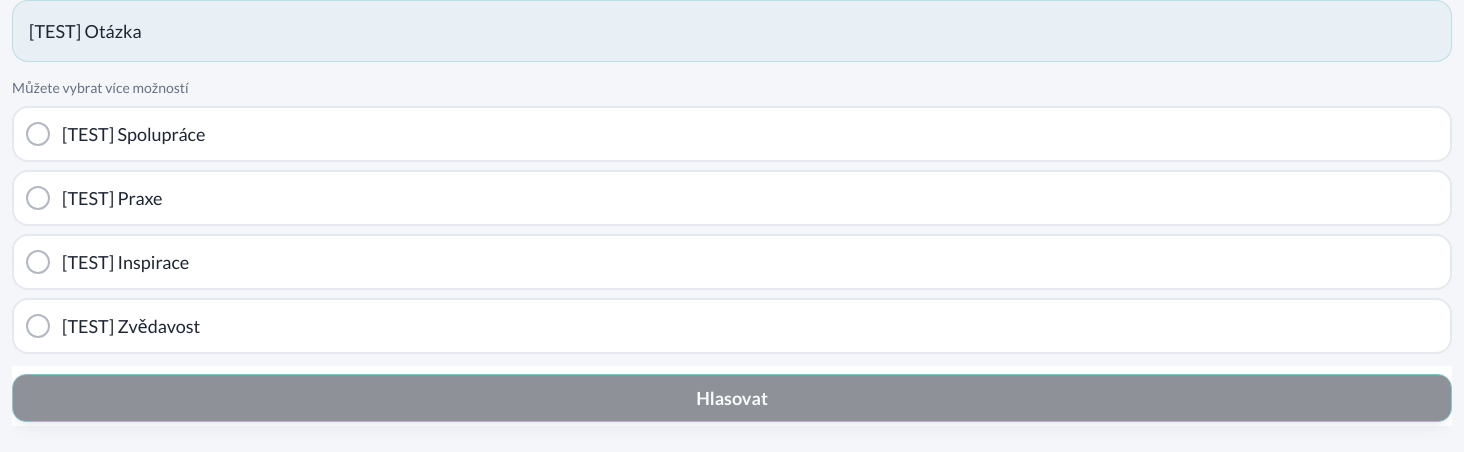
Scenario: PollActivity – výběr odpovědi › u více odpovědí umožní vybrat i odznačit jednotlivé možnosti
This screenshot has width=1464, height=452.
Click the button "[TEST] Spolupráce": [134, 134] box [12, 106, 1452, 162]
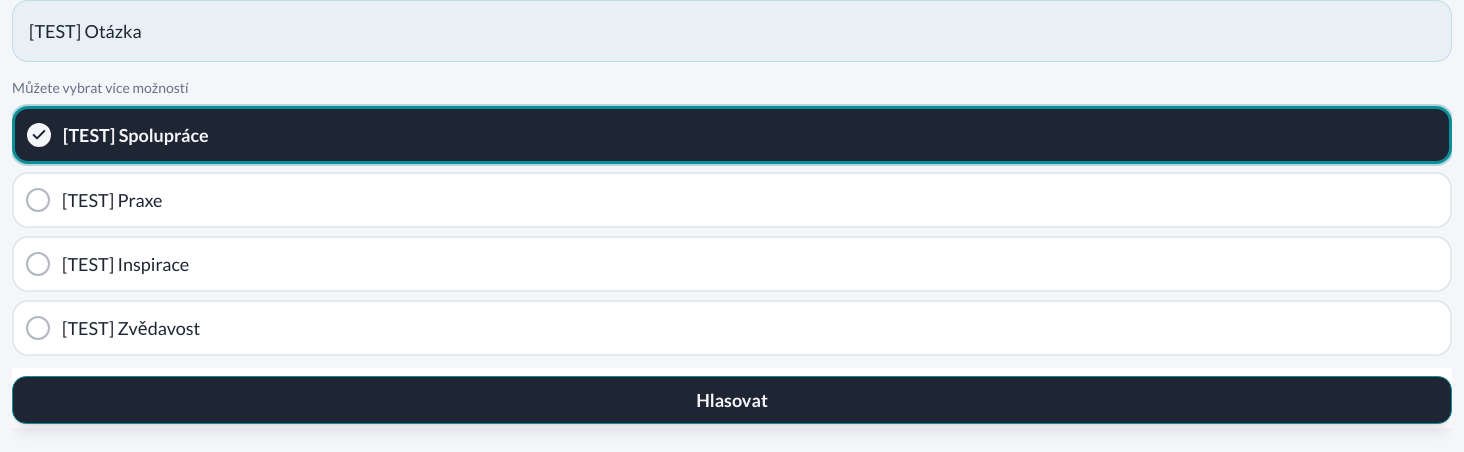
Click the button "[TEST] Praxe": [112, 200] box [12, 172, 1452, 228]
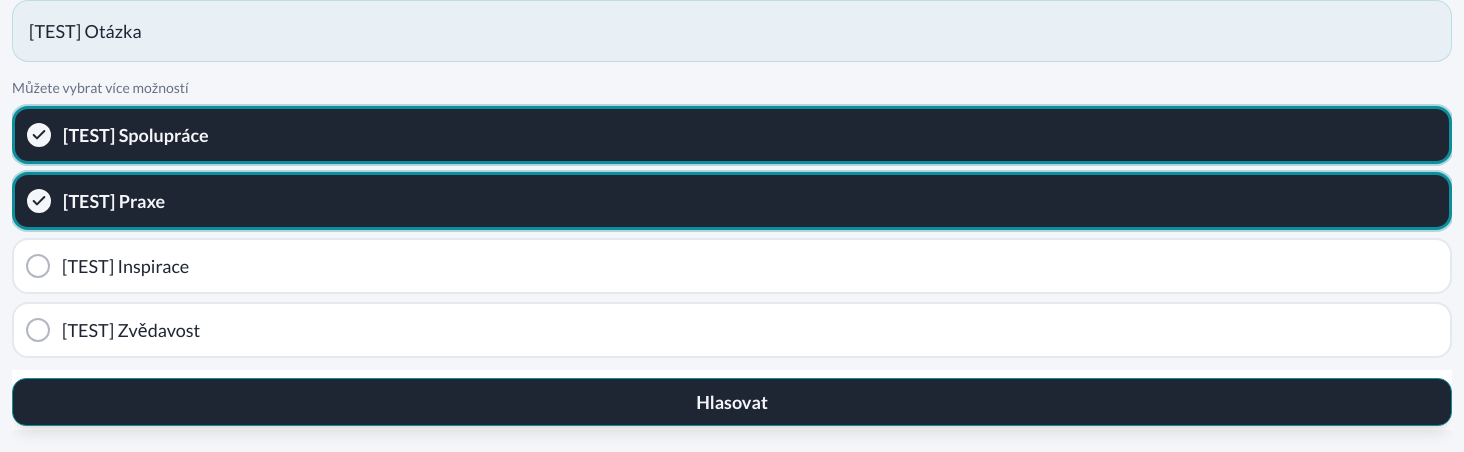
Now the button "[TEST] Spolupráce" is pressed
Now the button "[TEST] Praxe" is pressed, box [12, 172, 1452, 230]
Click the button "[TEST] Spolupráce": [136, 135] box [12, 106, 1452, 164]
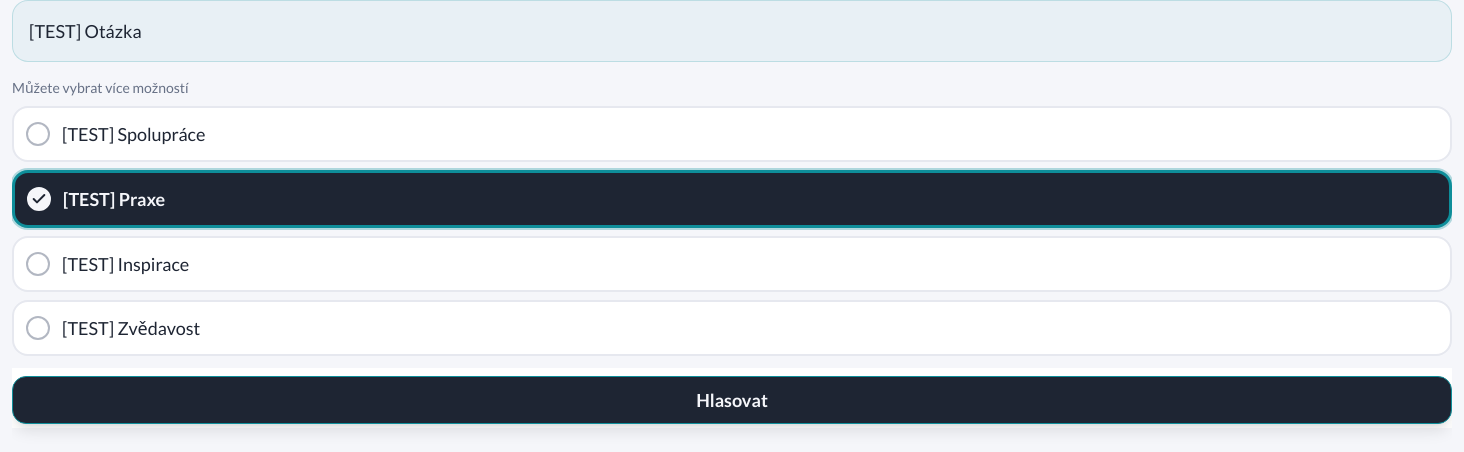
Now the button "[TEST] Spolupráce" is not pressed, box [12, 106, 1452, 162]
Now the button "[TEST] Praxe" is pressed, box [12, 170, 1452, 228]
